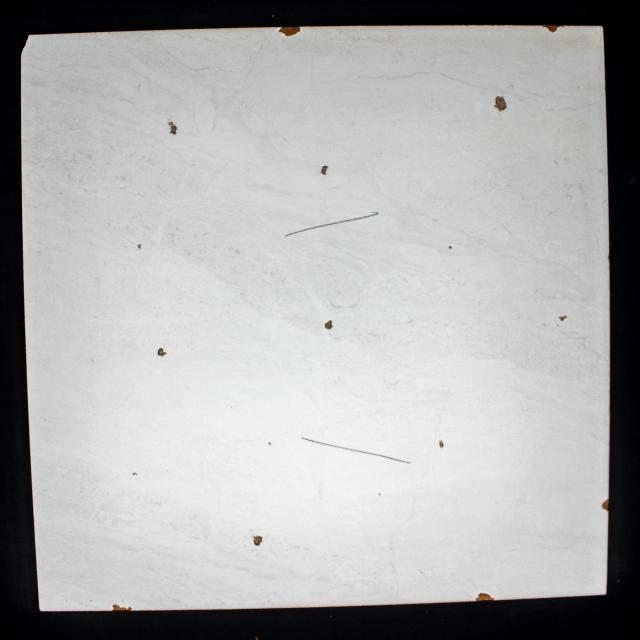edge-chipping: (279, 26, 301, 36), (20, 35, 30, 55), (542, 25, 564, 32), (476, 593, 495, 601), (112, 604, 132, 611), (602, 499, 609, 511)
hole: (494, 96, 508, 111), (168, 121, 177, 135), (253, 536, 262, 546), (325, 320, 333, 330), (157, 348, 166, 356), (321, 165, 328, 175), (558, 316, 568, 322), (439, 440, 444, 448), (132, 472, 138, 476), (138, 244, 142, 249), (268, 442, 272, 446), (448, 246, 453, 249), (378, 494, 381, 496)
line: (300, 437, 410, 464), (285, 212, 379, 236)
